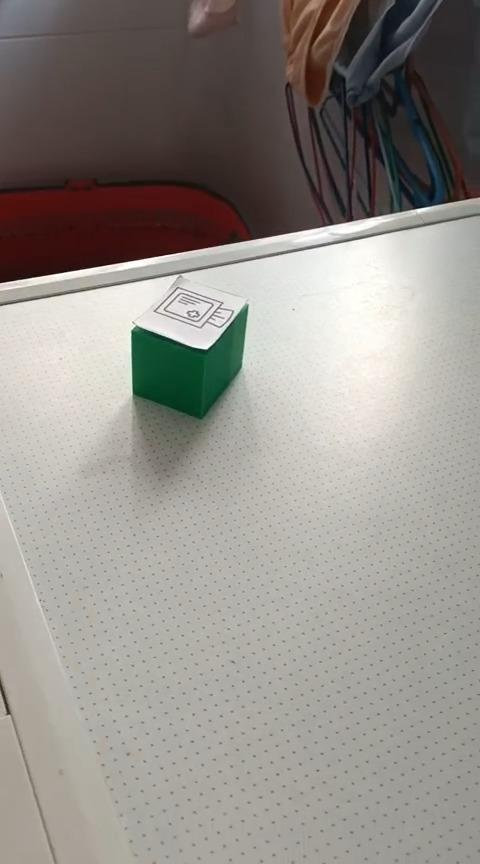Gauze: (129, 273, 249, 419)
